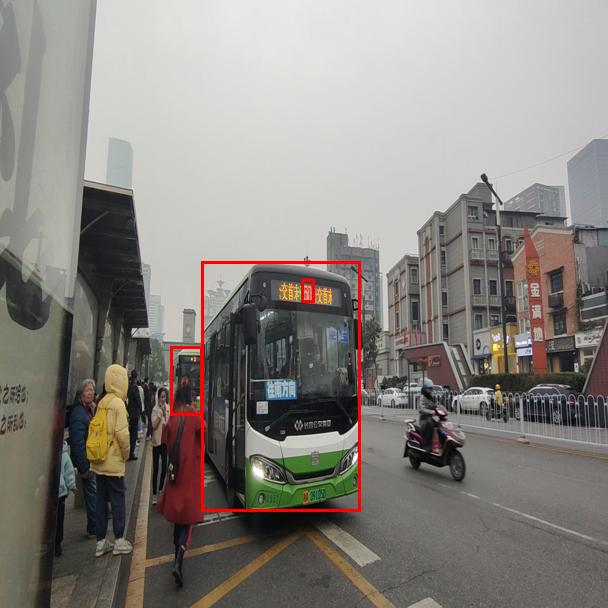bus: (201, 261, 360, 511), (170, 346, 202, 415)
screen: (301, 279, 314, 302)
